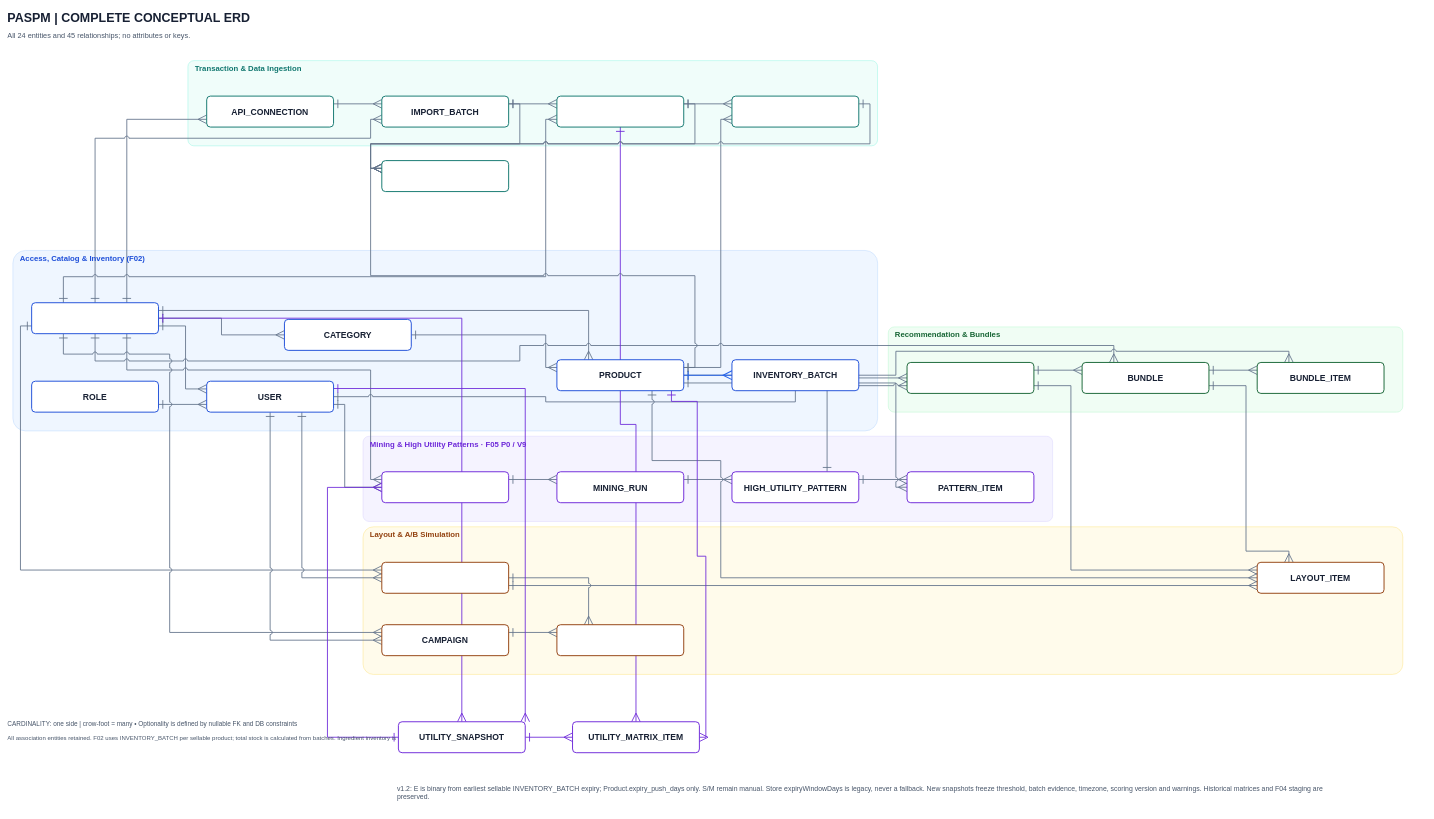
The diagram is 1434 pixels wide and 819 high, and some of its shapes have lost their labels. Here are the shapes that lost their labels. From the top down, the centre of each, then its label:
pixel 620 111: SALES_TRANSACTION
pixel 795 111: TRANSACTION_ITEM
pixel 445 176: IMPORT_STAGING_ROW
pixel 95 318: STORE
pixel 970 378: RECOMMENDATION
pixel 445 487: MINING_REQUEST
pixel 445 578: LAYOUT
pixel 620 640: CAMPAIGN_VARIANT
